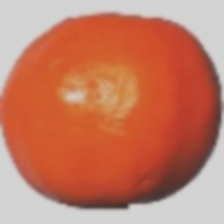tangerine: (8, 31, 192, 194)
